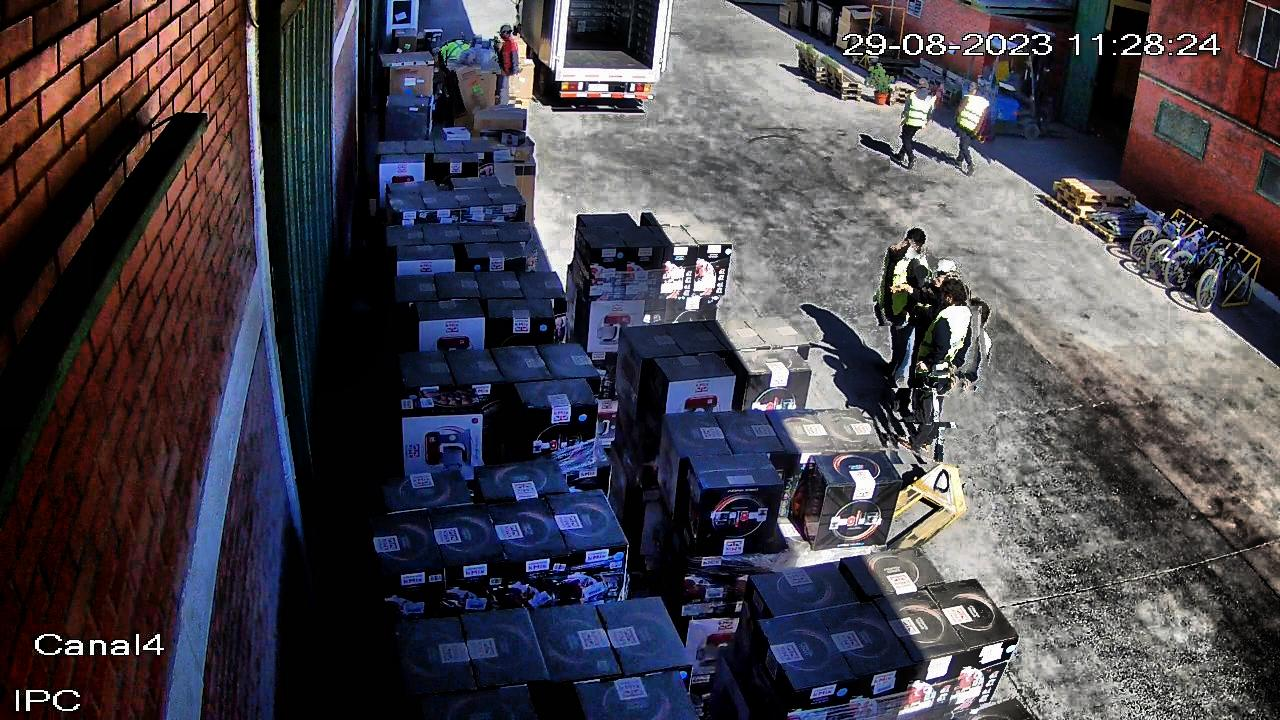con-casco: (916, 307, 984, 380), (932, 259, 962, 290), (496, 25, 520, 43)
con-chaleco: (873, 243, 933, 327), (952, 92, 993, 138), (908, 89, 936, 130), (448, 42, 476, 68)
persona: (878, 275, 996, 464), (860, 227, 939, 388), (892, 260, 970, 422), (890, 76, 945, 176), (945, 80, 996, 177), (489, 24, 521, 118)
sin-casco: (435, 34, 482, 118), (939, 280, 971, 317), (897, 228, 930, 259), (909, 77, 936, 94), (964, 80, 988, 98)
sin-chaleco: (915, 277, 963, 340), (496, 40, 521, 76)
